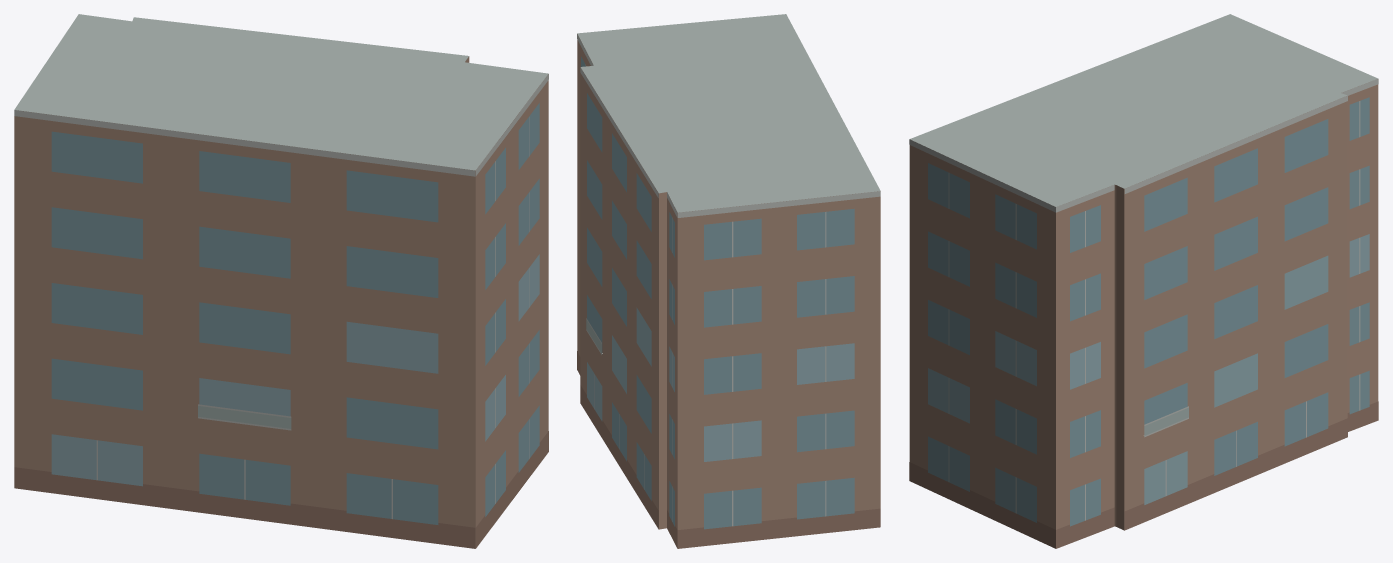
Rendered from survey-upis-32793356.glb.
3 renders of one model, left to right at view 1: azimuth 30°, elevation 25°; view 2: azimuth 150°, elevation 25°; view 3: azimuth 270°, elevation 25°, orthographic. The views are drawn at different scales.
Visible parts, largest first — view 1: survey-upis-32793356.tmp; view 2: survey-upis-32793356.tmp; view 3: survey-upis-32793356.tmp.
Part boxes in pixels (bbox=[...]): survey-upis-32793356.tmp: bbox=[14, 14, 548, 548]; survey-upis-32793356.tmp: bbox=[577, 14, 880, 548]; survey-upis-32793356.tmp: bbox=[909, 14, 1378, 548].
Bounding box in the file's own units: 18.02 × 14.87 × 18.5.
